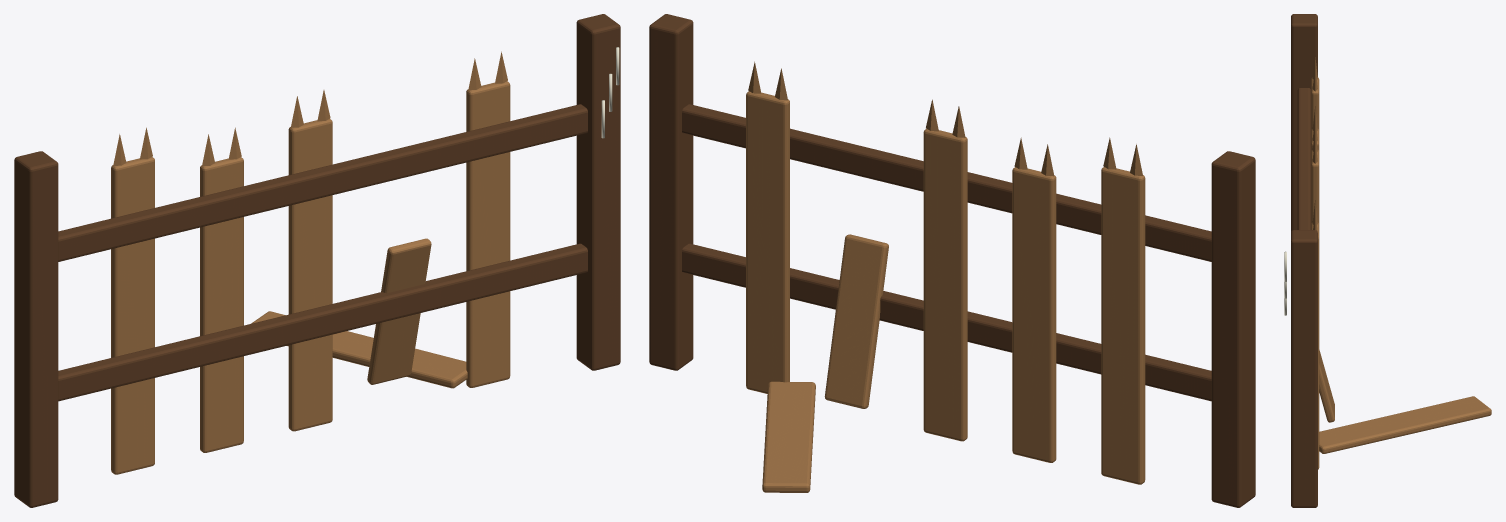
File: zc_fence_broken.glb
3 renders of one model, left to right at view 1: azimuth 30°, elevation 25°; view 2: azimuth 150°, elevation 25°; view 3: azimuth 270°, elevation 25°, orthographic. The views are drawn at different scales.
Visible parts, largest first — view 1: zc_fence_broken; view 2: zc_fence_broken; view 3: zc_fence_broken.
Boxes of the visible parts, x1,y1,x2,y2 form: zc_fence_broken: (14, 14, 620, 507); zc_fence_broken: (649, 14, 1255, 507); zc_fence_broken: (1284, 14, 1491, 507).
Bounding box in the file's own units: 2 × 1.1 × 0.7709.
1 material, 1 textured.
